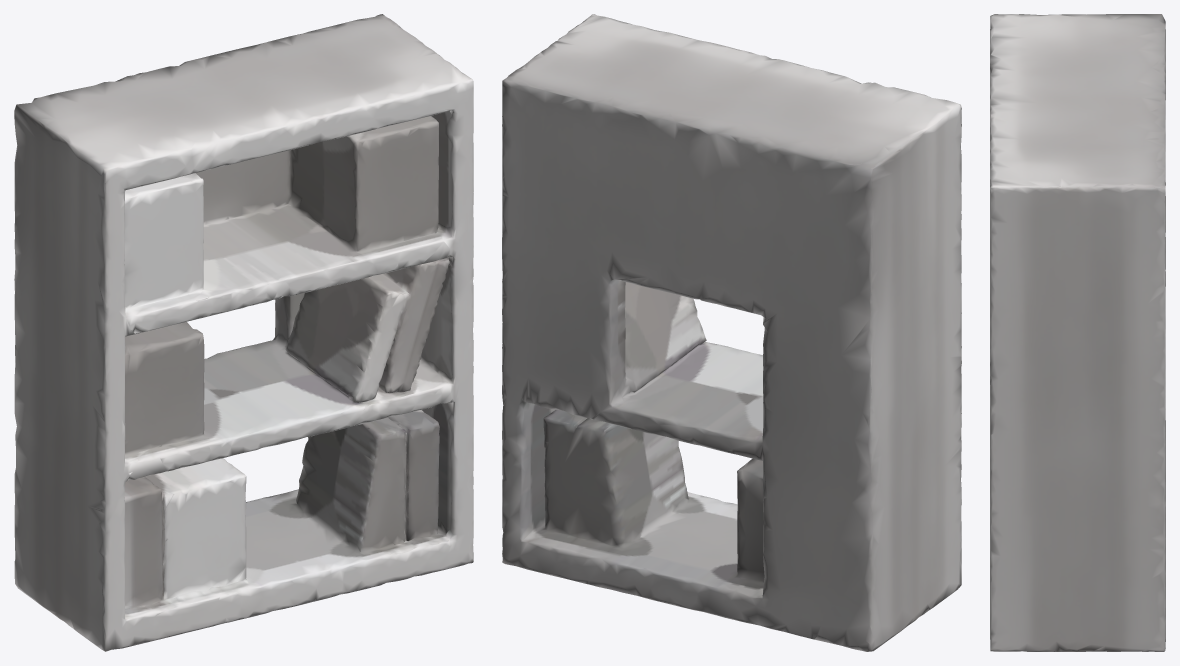
Rendered from bookshelf.glb.
3 views of the same model, side by side, from view 1: azimuth 30°, elevation 25°; view 2: azimuth 150°, elevation 25°; view 3: azimuth 270°, elevation 25° (orthographic). The views are drawn at different scales.
Parts seen in each view (by area): view 1: model; view 2: model; view 3: model.
Part boxes in pixels (<box>): model: <box>14,14,473,651</box>; model: <box>502,14,961,651</box>; model: <box>990,14,1165,651</box>.
Bounding box in the file's own units: 1.52 × 1.9 × 0.6507.
1 material, 1 textured.
